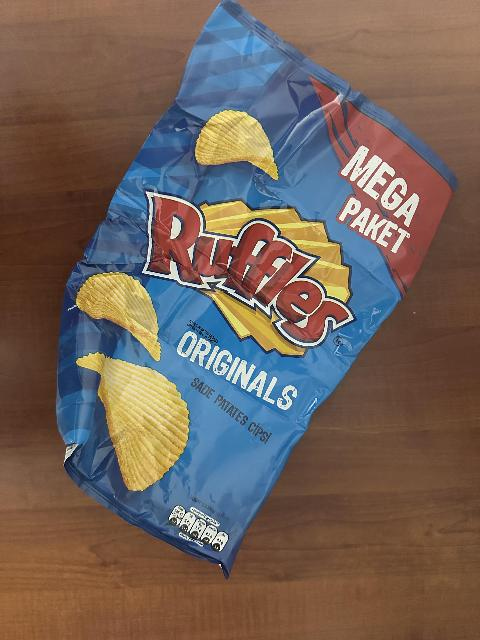Plastik: (22, 11, 463, 570)
